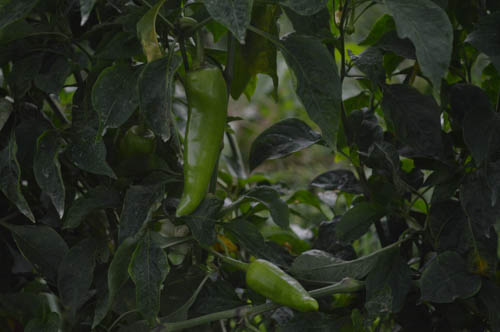ChiliPepper: (178, 69, 229, 217), (247, 262, 321, 311)
